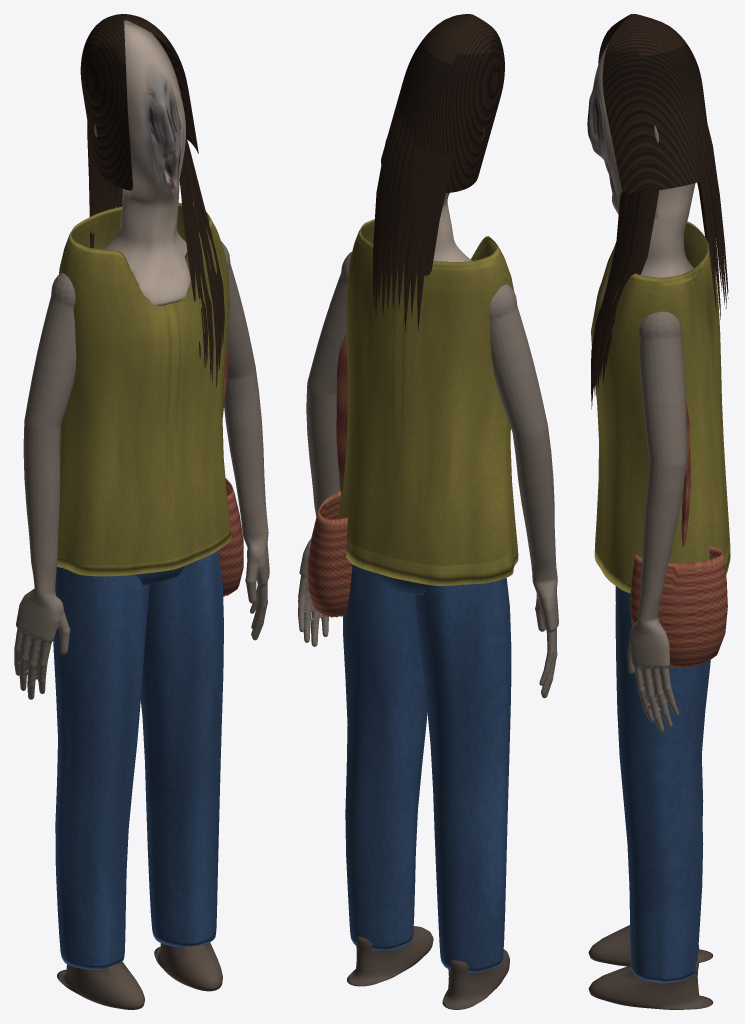
File: Flawed_03_MandibulaEstirada.fbx
3 views of the same model, side by side, from view 1: azimuth 30°, elevation 25°; view 2: azimuth 150°, elevation 25°; view 3: azimuth 270°, elevation 25° (orthographic). The views are drawn at different scales.
Parts seen in each view (by area): view 1: FL_Pantalon, FL_Camisa, FL_Brazos, FL_Cabeza, FL_Cabello, FL_Zapatos, FL_Bolso; view 2: FL_Pantalon, FL_Camisa, FL_Cabello, FL_Brazos, FL_Bolso, FL_Zapatos, FL_Cabeza; view 3: FL_Camisa, FL_Pantalon, FL_Cabello, FL_Brazos, FL_Bolso, FL_Cabeza, FL_Zapatos.
Boxes of the visible parts, x1,y1,x2,y2 form: FL_Pantalon: (53,551,223,969); FL_Camisa: (57,202,231,576); FL_Brazos: (14,241,269,699); FL_Cabeza: (94,20,190,305); FL_Cabello: (80,14,224,387); FL_Zapatos: (57,942,222,1009); FL_Bolso: (218,347,243,596); FL_Pantalon: (343,564,511,972); FL_Camisa: (338,219,518,585); FL_Cabello: (373,14,504,332); FL_Brazos: (298,251,558,698); FL_Bolso: (308,332,352,617); FL_Zapatos: (347,926,509,1009); FL_Cabeza: (433,129,484,261); FL_Camisa: (591,221,730,593); FL_Pantalon: (615,586,710,983); FL_Cabello: (591,14,728,409); FL_Brazos: (627,311,686,732); FL_Bolso: (630,403,727,668); FL_Cabeza: (587,42,695,301); FL_Zapatos: (588,925,713,1009).
Size of the model in its own units: 0.5017 by 1.83 by 0.2501.
7 materials, 6 textured.
